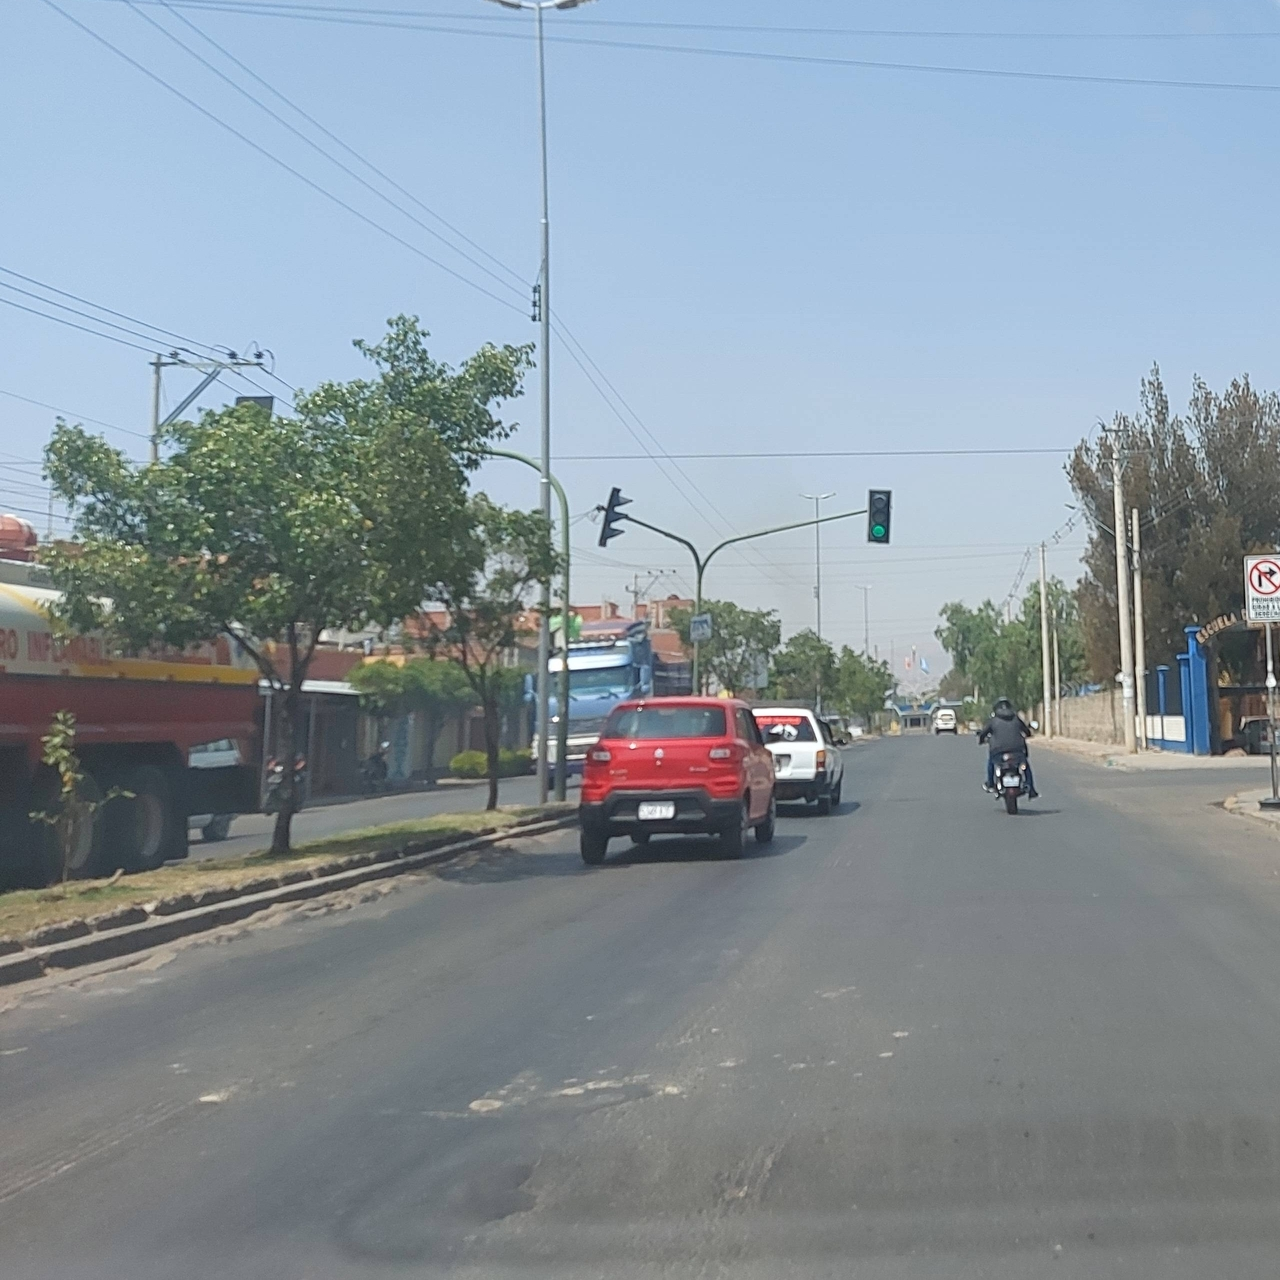prohibido-girar-derecha: (1242, 552, 1280, 624)
